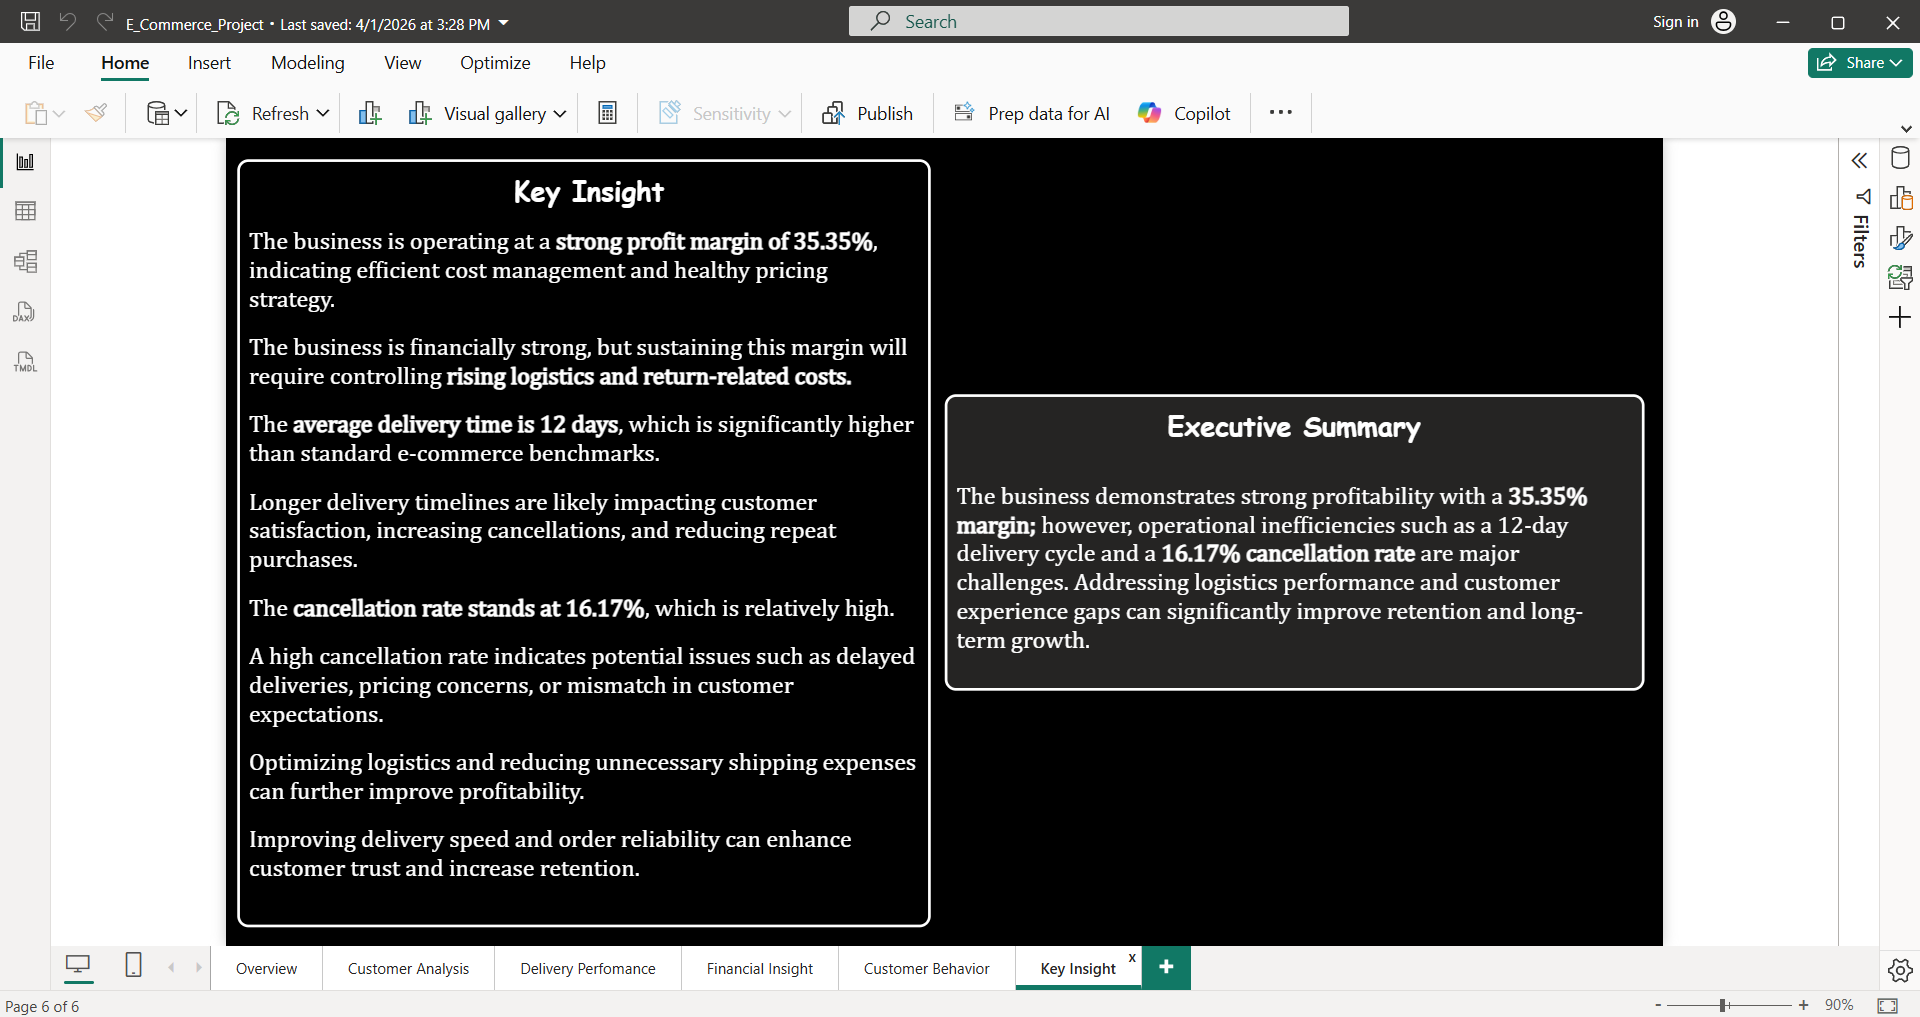

The page's visual inventory and layout, read from the dashboard file:
{"tool":"powerbi","page":{"name":"Key Insight","canvas":[1280,720],"ordinal":5},"visuals":[{"type":"textbox","box":[10.1,18.8,617.5,683.9],"z":0},{"type":"textbox","box":[640.6,228,623.3,264],"z":1}]}

Visuals, with their boxes on the page's 1280x720 design canvas (x1, y1, x2, y2). These are canvas units, not pixel positions in the 1920x1017 screenshot, which may show the page scaled, cropped or inside an application window:
textbox: 10:19:628:703
textbox: 641:228:1264:492
